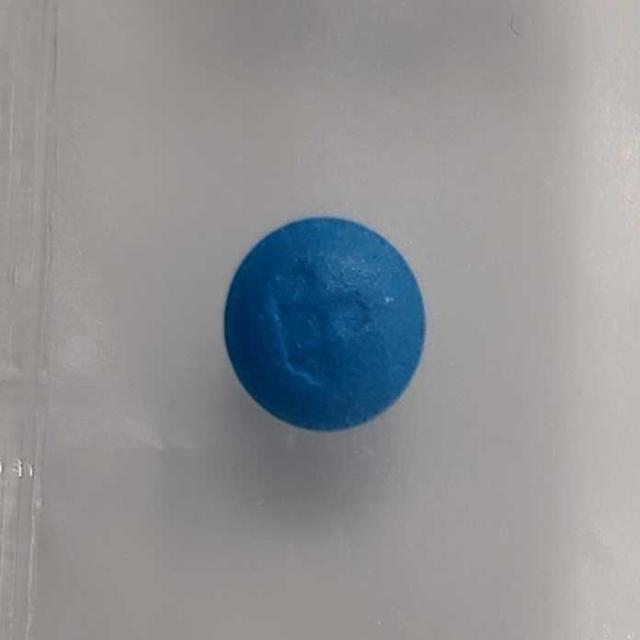pill: (227, 215, 428, 438)
